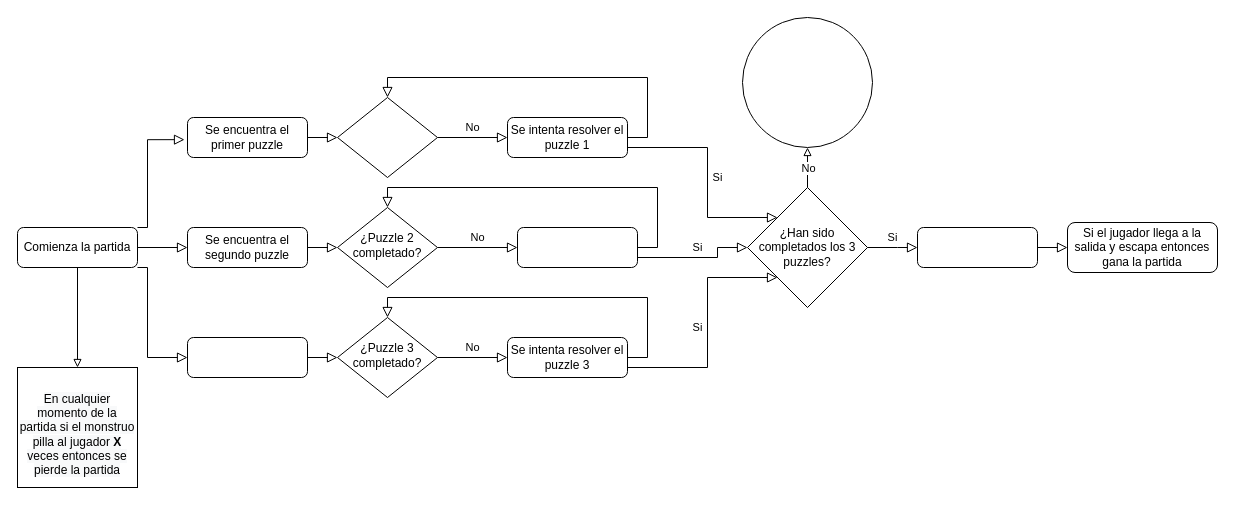
The diagram is 1235 pixels wide and 505 high, and some of its shapes have lost their labels. Each missing label, with the centre of its shape:
"Se abre la salida" goes at pixel 977 247.
"Se encuentra el tercer puzzle" goes at pixel 247 357.
"Se intenta resolver el puzzle 2" goes at pixel 577 247.
"Se marca el puzzle como completado y se espera a que se complete el resto" goes at pixel 807 82.
"¿Puzzle 1 completado?" goes at pixel 387 137.
